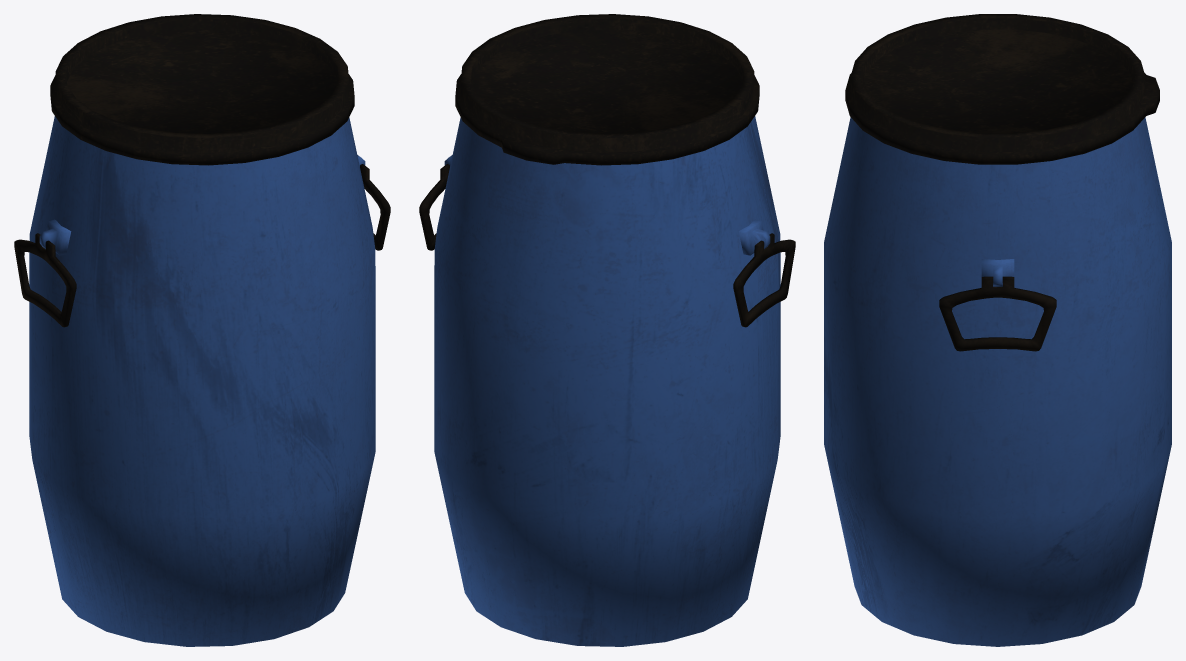
Rendered from bluePlasticBarrel.glb.
3 views of the same model, side by side, from view 1: azimuth 30°, elevation 25°; view 2: azimuth 150°, elevation 25°; view 3: azimuth 270°, elevation 25° (orthographic).
Visible parts, largest first — view 1: Plastic_Barrel_LOD0.2; view 2: Plastic_Barrel_LOD0.2; view 3: Plastic_Barrel_LOD0.2.
Boxes of the visible parts, x1,y1,x2,y2 form: Plastic_Barrel_LOD0.2: (14, 14, 390, 646); Plastic_Barrel_LOD0.2: (419, 14, 795, 646); Plastic_Barrel_LOD0.2: (824, 14, 1171, 646).
Size of what is drawn, in the model's own units: 88.03 by 134 by 82.64.
Materials: 1 (1 with a texture image).
